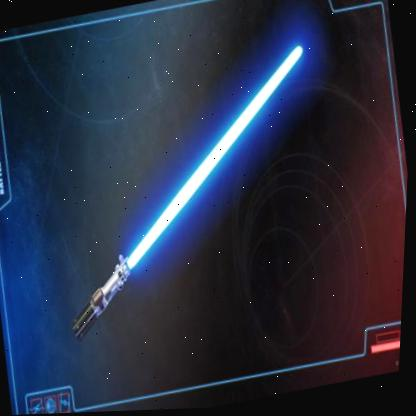lightsaber: (29, 40, 348, 352)
